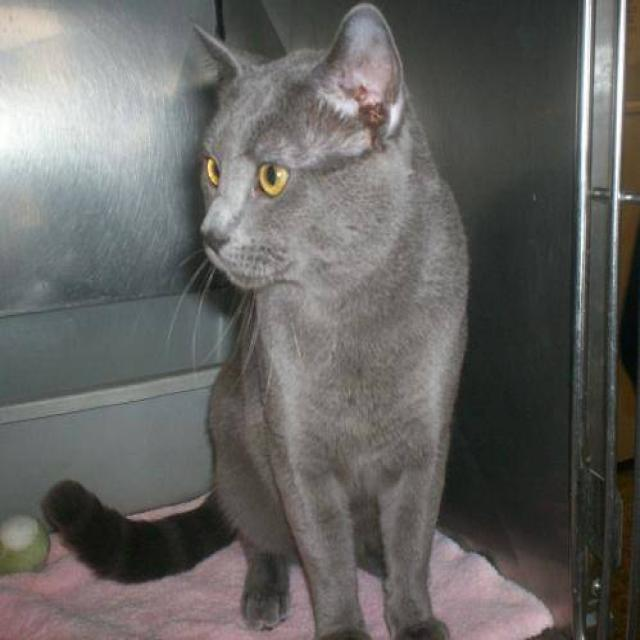cat: (39, 0, 470, 639)
